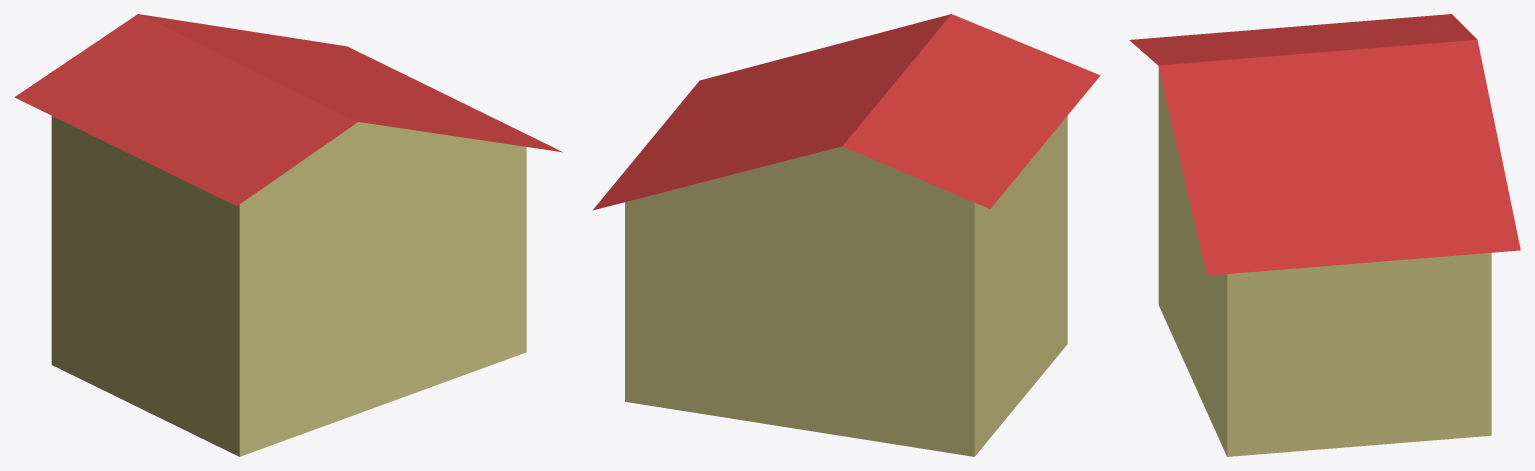
3 renders of one model, left to right at view 1: azimuth 30°, elevation 25°; view 2: azimuth 150°, elevation 25°; view 3: azimuth 270°, elevation 25°, orthographic. The views are drawn at different scales.
Bounding box in the file's own units: 13.92 × 11.6 × 9.65.
